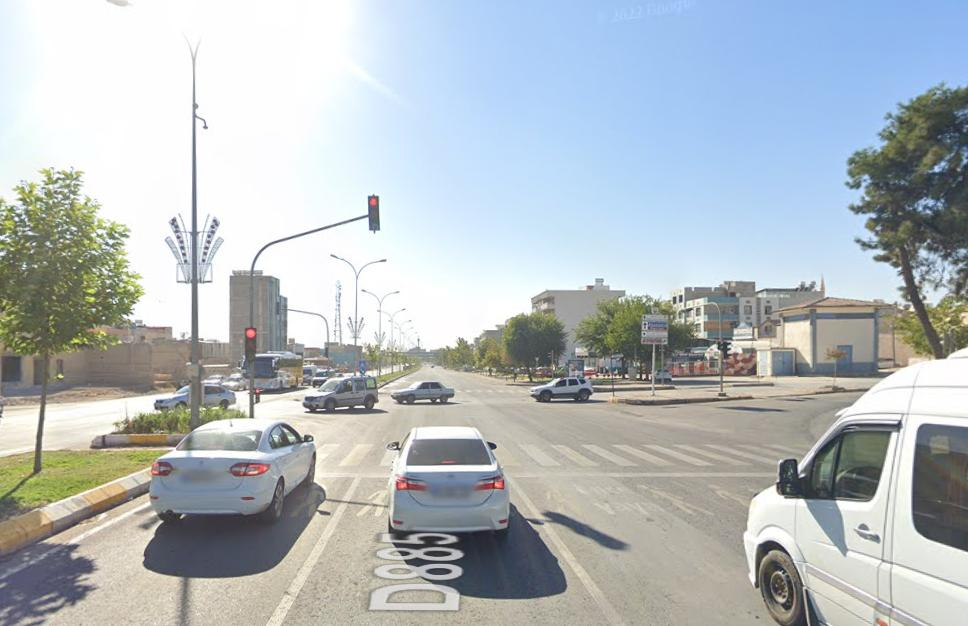redlight: (367, 195, 382, 233), (245, 328, 257, 364)
